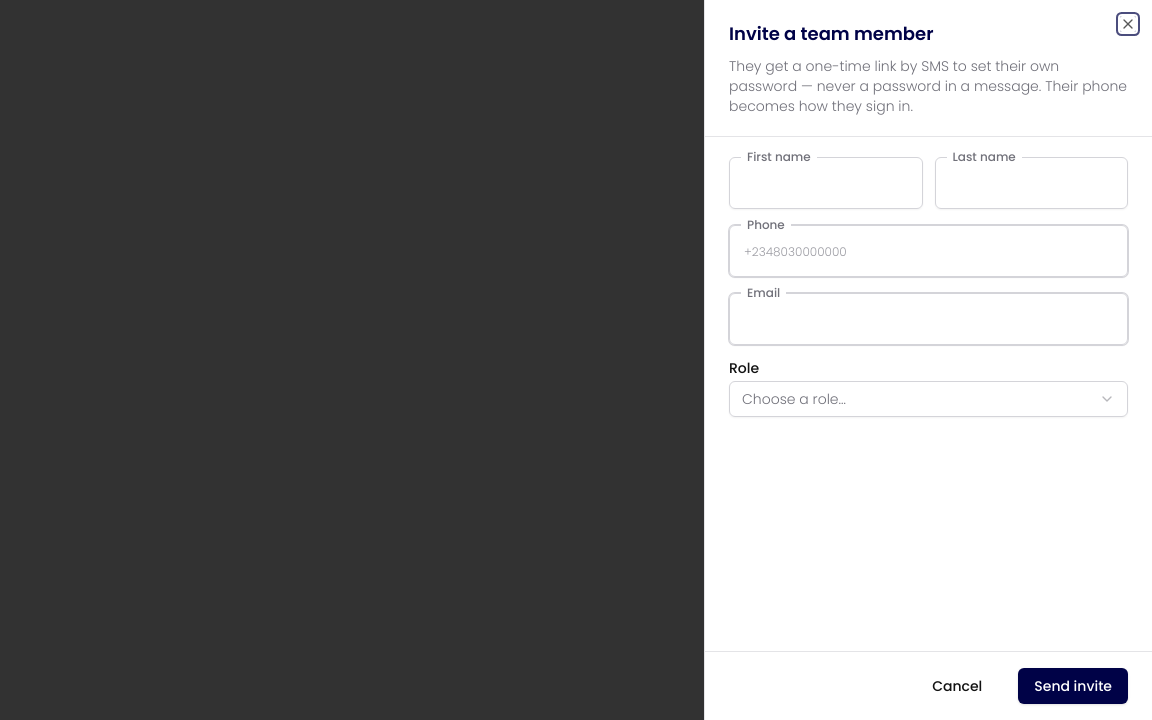
Test: InviteMemberSheet › shows the combined contact-taken answer without saying whose
The image size is (1152, 720).
Type "Bisi" into the field labelled "First name" at (826, 183), box x1=729 y1=157 x2=922 y2=209
Type "Adebayo" into the field labelled "Last name" at (1031, 183), box x1=934 y1=157 x2=1128 y2=209
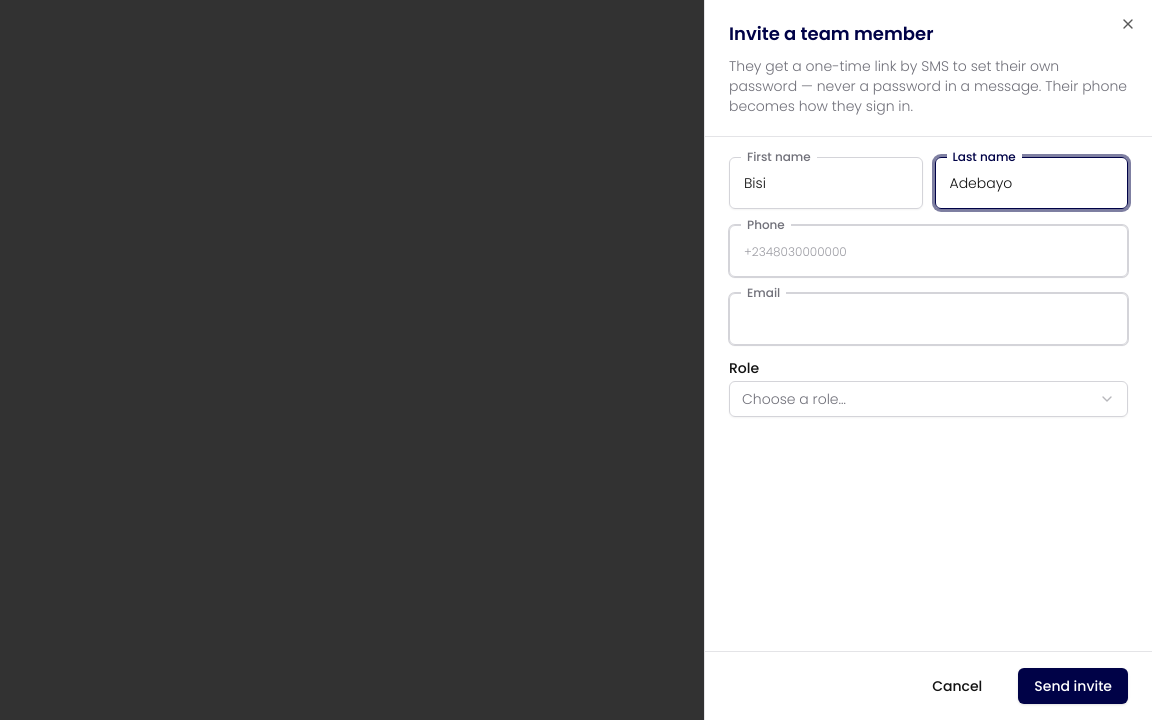
Type "+2348077000001" into the field labelled "Phone" at (928, 251), box x1=729 y1=225 x2=1128 y2=277
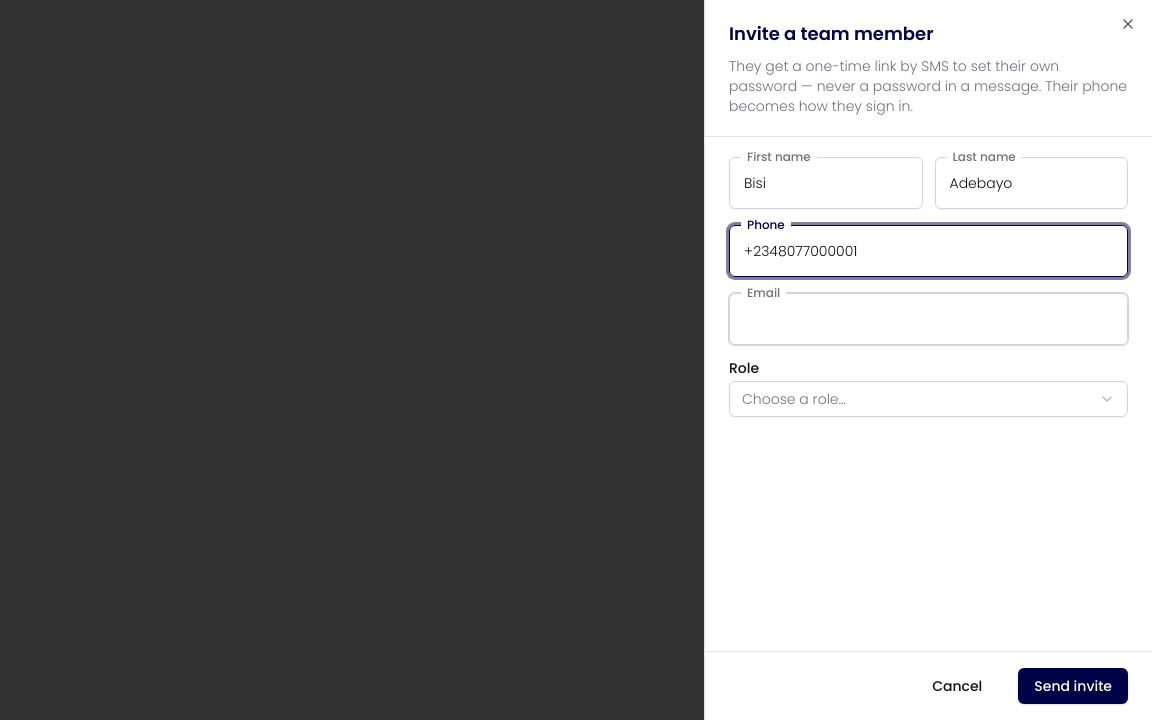
Type "bisi@team.test" into the field labelled "Email" at (928, 319), box x1=729 y1=293 x2=1128 y2=345
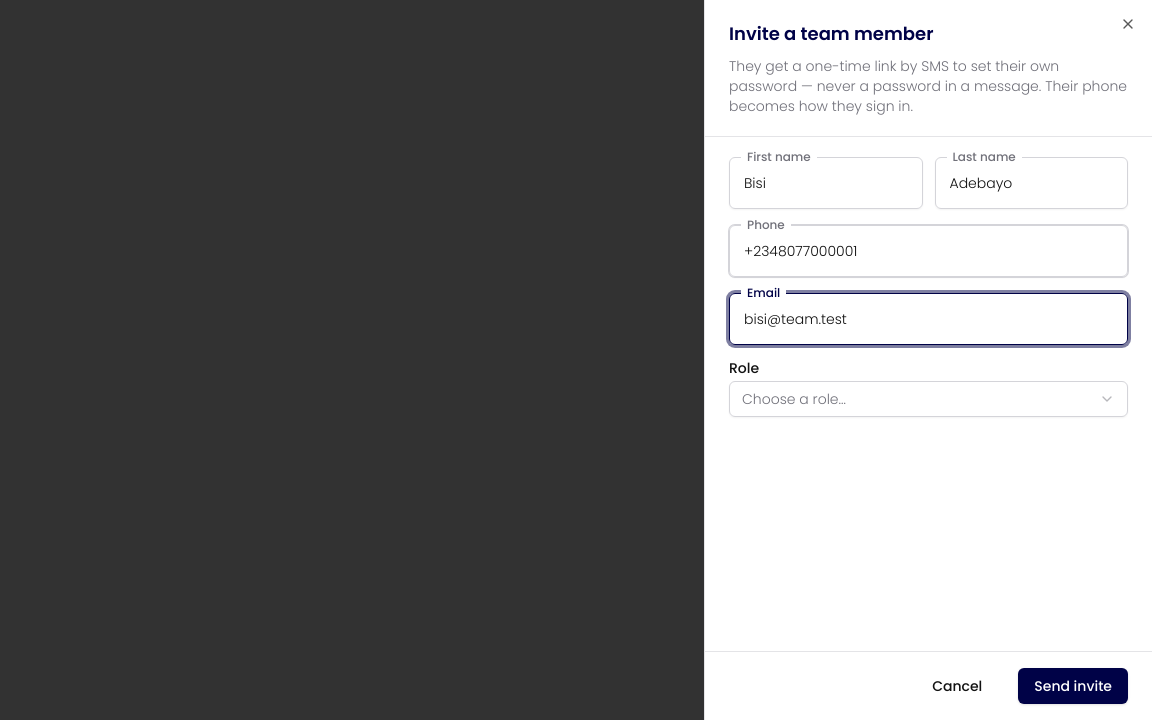
Click the dropdown at (794, 399), box x1=729 y1=381 x2=1128 y2=417
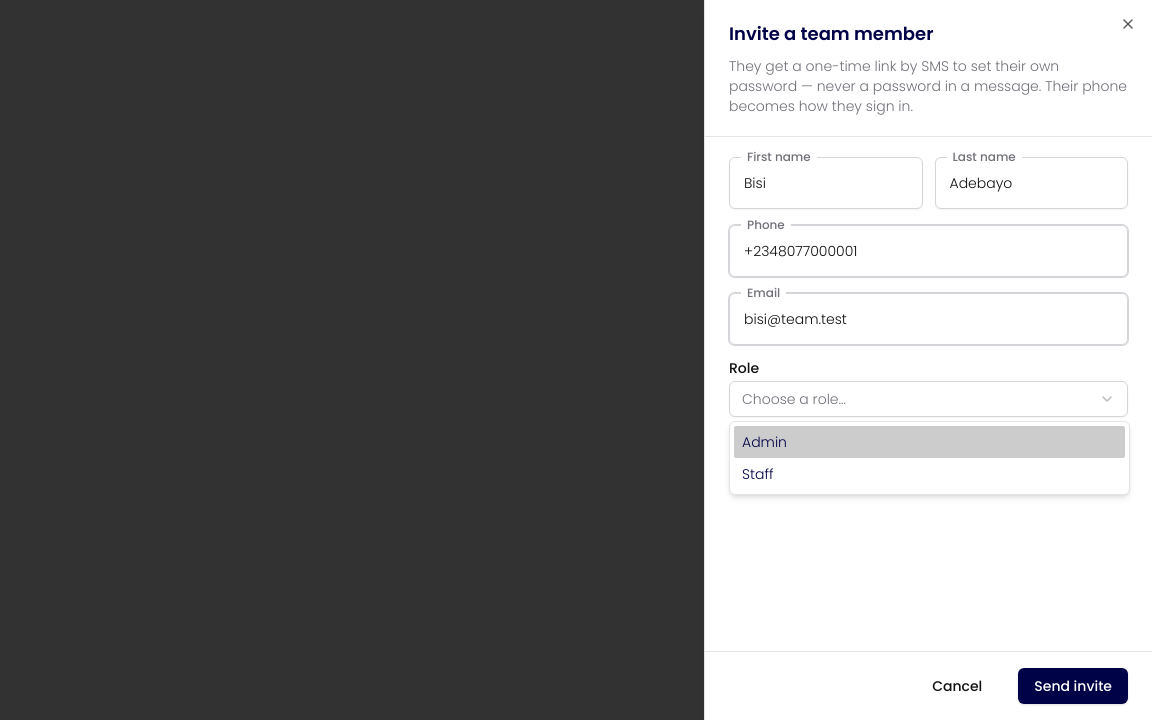
Click the option "Staff" at (758, 474), box x1=742 y1=464 x2=774 y2=484
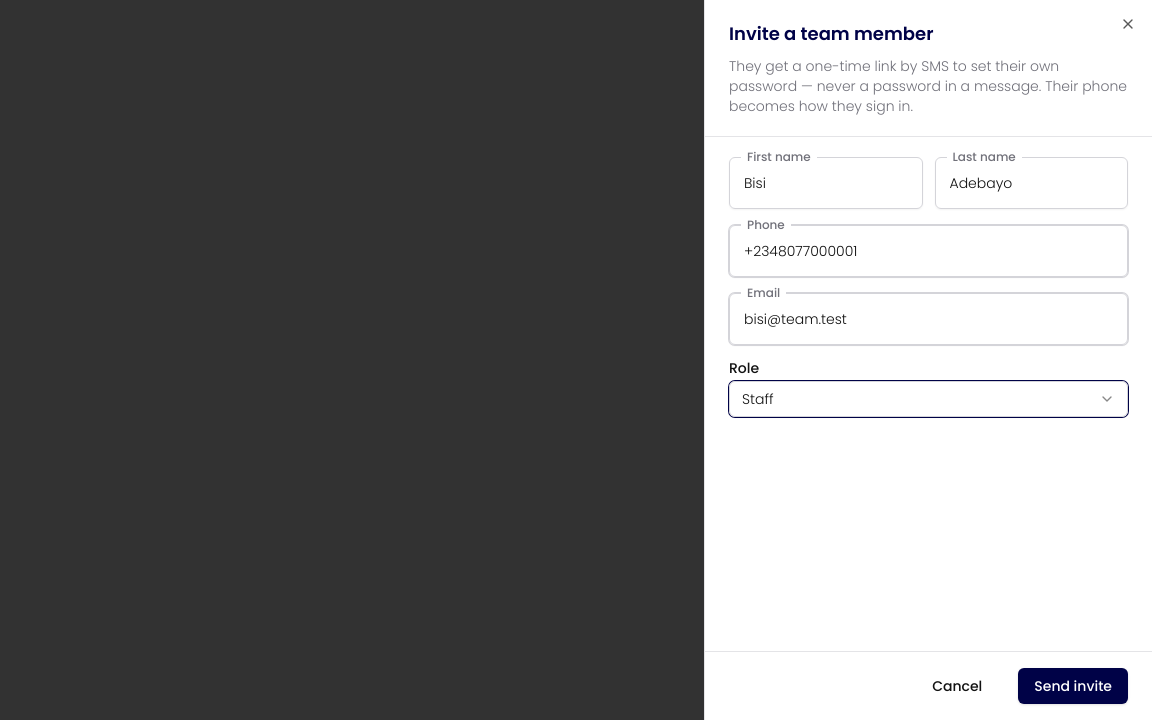
Click the button "Send invite" at (1073, 686), box x1=1018 y1=668 x2=1128 y2=704
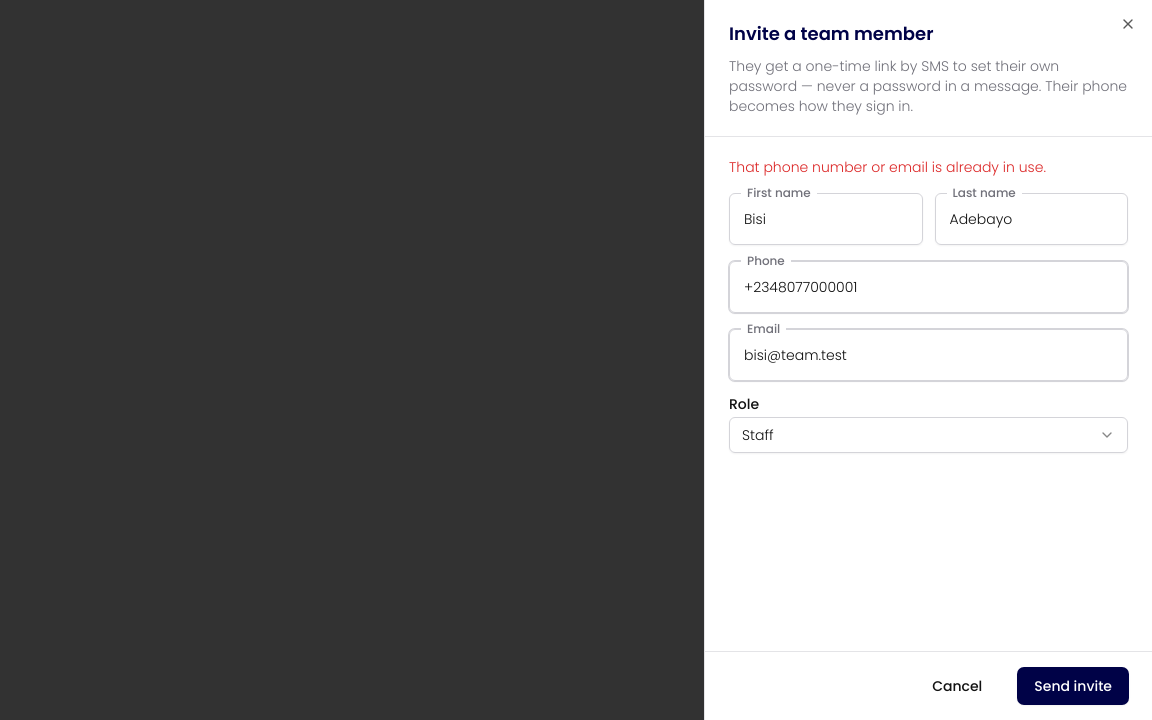
expect the text "That phone number or email is already in use." is shown: met, box x1=729 y1=157 x2=1046 y2=177
